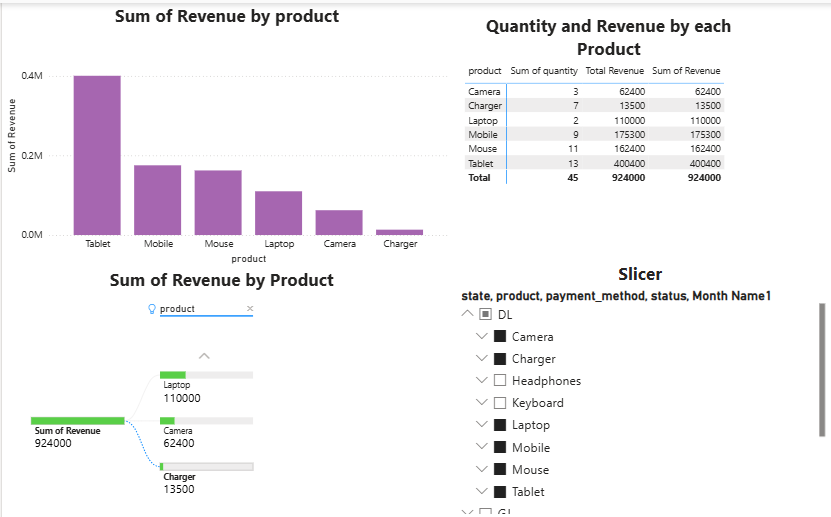

This screenshot's page, from the dashboard's own definition file:
{"tool":"powerbi","page":{"name":"Ecommerce Sales Performance Dashboard2","canvas":[1280,720],"ordinal":1},"visuals":[{"type":"clusteredColumnChart","fields":{"Category":["ecommerce_sales.product"],"Y":["Sum(ecommerce_sales.Revenue)"]},"box":[0,0,628.8,368.9],"z":0},{"type":"decompositionTreeVisual","title":"Sum of Revenue by Product","fields":{"ExplainBy":["ecommerce_sales.product"],"Analyze":["Sum(ecommerce_sales.Revenue)"]},"box":[10.5,368.9,593.2,350],"z":1000},{"type":"pivotTable","title":"Quantity and Revenue by each Product","fields":{"Rows":["ecommerce_sales.product"],"Values":["Sum(ecommerce_sales.quantity)","ecommerce_sales.Total Revenue","Sum(ecommerce_sales.Revenue)"]},"box":[641.4,14.7,412.9,245.2],"z":2000},{"type":"slicer","title":"Slicer","fields":{"Values":["ecommerce_sales.state","ecommerce_sales.product","ecommerce_sales.payment_method","ecommerce_sales.status","DateTable.Month Name1"]},"box":[628.8,360.5,526.1,358.4],"z":3000}]}

Visuals, with their boxes on the page's 1280x720 design canvas (x1, y1, x2, y2). These are canvas units, not pixel positions in the 831x517 screenshot, which may show the page scaled, cropped or inside an application window:
clusteredColumnChart - ecommerce_sales.product x Sum(ecommerce_sales.Revenue): [0, 0, 629, 369]
"Sum of Revenue by Product" decompositionTreeVisual: [10, 369, 604, 719]
"Quantity and Revenue by each Product" pivotTable: [641, 15, 1054, 260]
"Slicer" slicer: [629, 360, 1155, 719]
